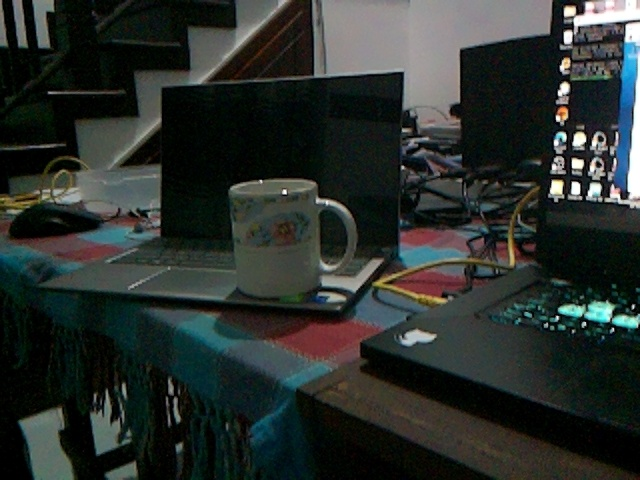mug: (227, 176, 359, 300)
